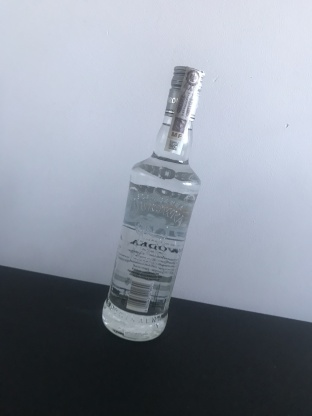nakretka: (162, 62, 206, 123)
